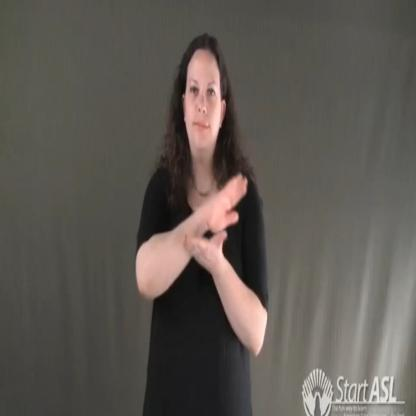NiceToMeetYou: (182, 167, 252, 278)
